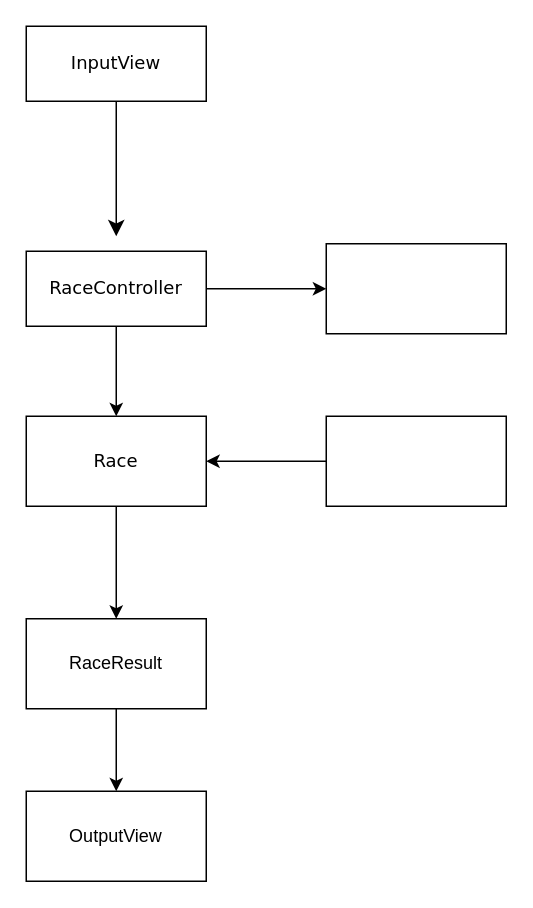
This 533x908 diagram has some shape labels left out. The box of each missing label's shape, as (x1, y1, x2, y2) in pixels:
Car: (325, 242, 506, 334)
RaceException: (325, 415, 506, 506)
